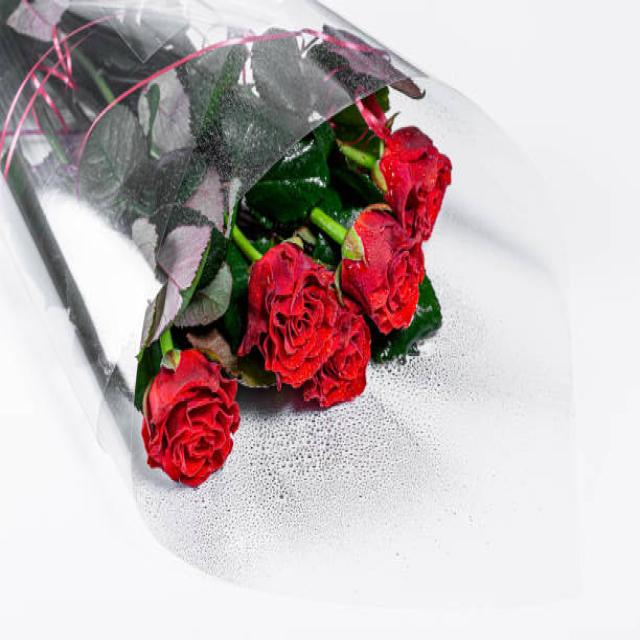paper: (142, 346, 240, 481), (380, 117, 461, 249), (264, 249, 338, 383), (348, 212, 426, 338)
